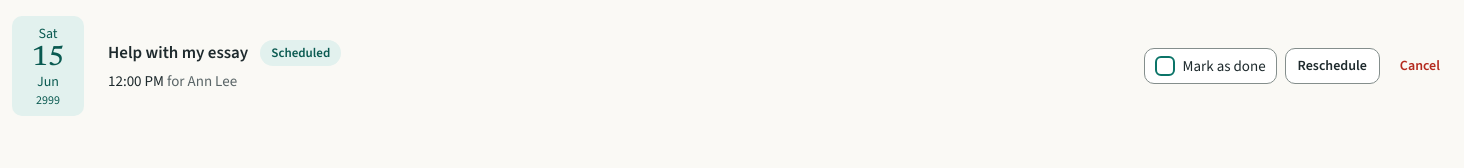
Scenario: ConsultationItem server errors › 429 shows the message and does not refresh
Step 1. Click the checkbox named "Mark as done: Help with my essay" → (1165, 66), box [1155,56,1175,76]
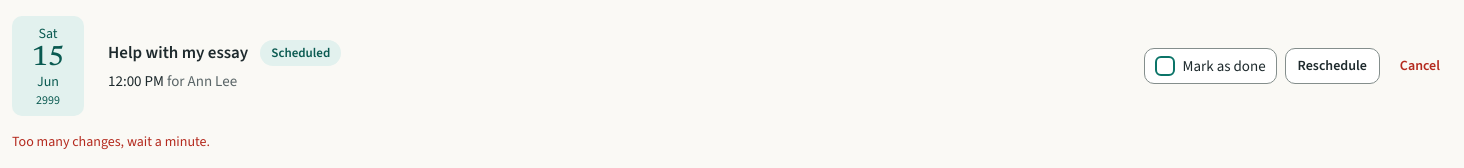
Expected: the message reads "Too many changes, wait a minute.", [12,132,210,151]
